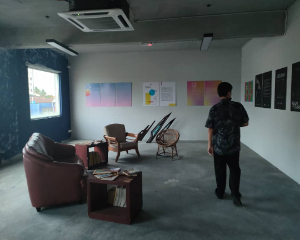stand: (203, 76, 256, 207)
